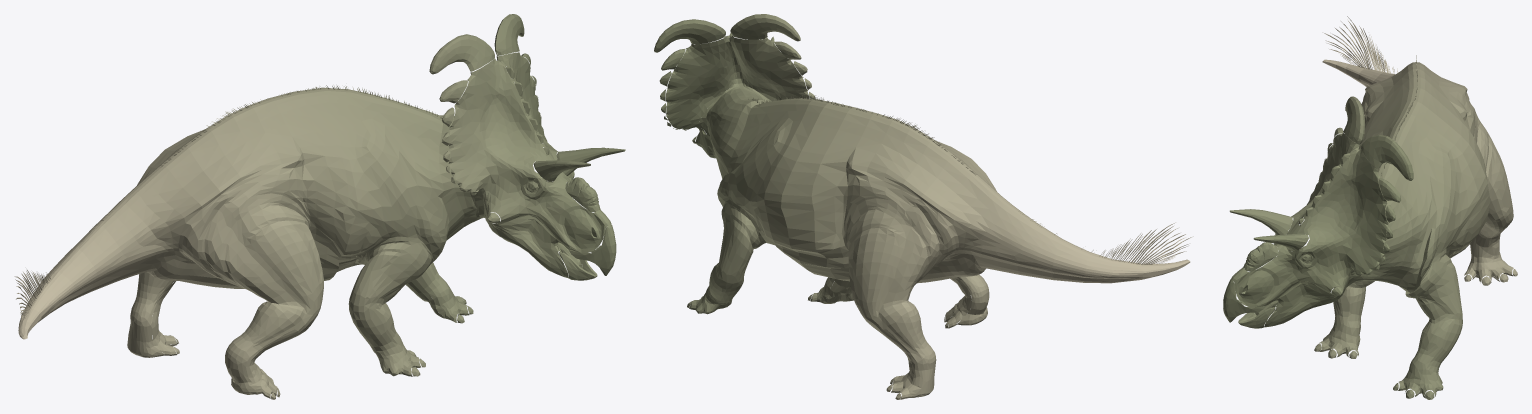
File: albertaceratops.glb
The picture shows the model from 3 angles, left to right: view 1: azimuth 30°, elevation 25°; view 2: azimuth 150°, elevation 25°; view 3: azimuth 270°, elevation 25°; orthographic projection. The views are drawn at different scales.
Visible parts, largest first — view 1: world; view 2: world; view 3: world.
Boxes of the visible parts, x1,y1,x2,y2 form: world: [14, 14, 625, 399]; world: [654, 14, 1193, 399]; world: [1223, 16, 1517, 399].
Bounding box in the file's own units: 10 × 5.18 × 4.94.
